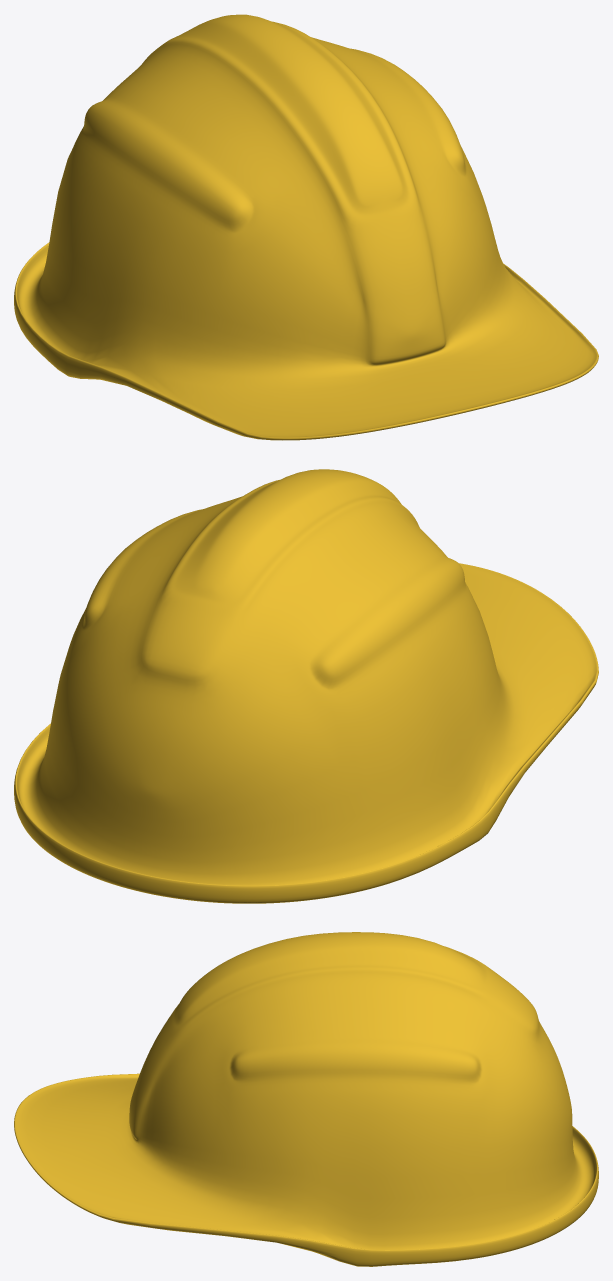
Rendered from helmet.glb.
3 renders of one model, top to bottom at view 1: azimuth 30°, elevation 25°; view 2: azimuth 150°, elevation 25°; view 3: azimuth 270°, elevation 25°, orthographic. The views are drawn at different scales.
Parts seen in each view (by area): view 1: Safety Helmet; view 2: Safety Helmet; view 3: Safety Helmet.
Part boxes in pixels (x1,y1,x2,y2): Safety Helmet: (14,14,598,440); Safety Helmet: (14,469,598,903); Safety Helmet: (14,932,598,1266).
Size of the model in its own units: 1.69 by 1.11 by 2.38.
